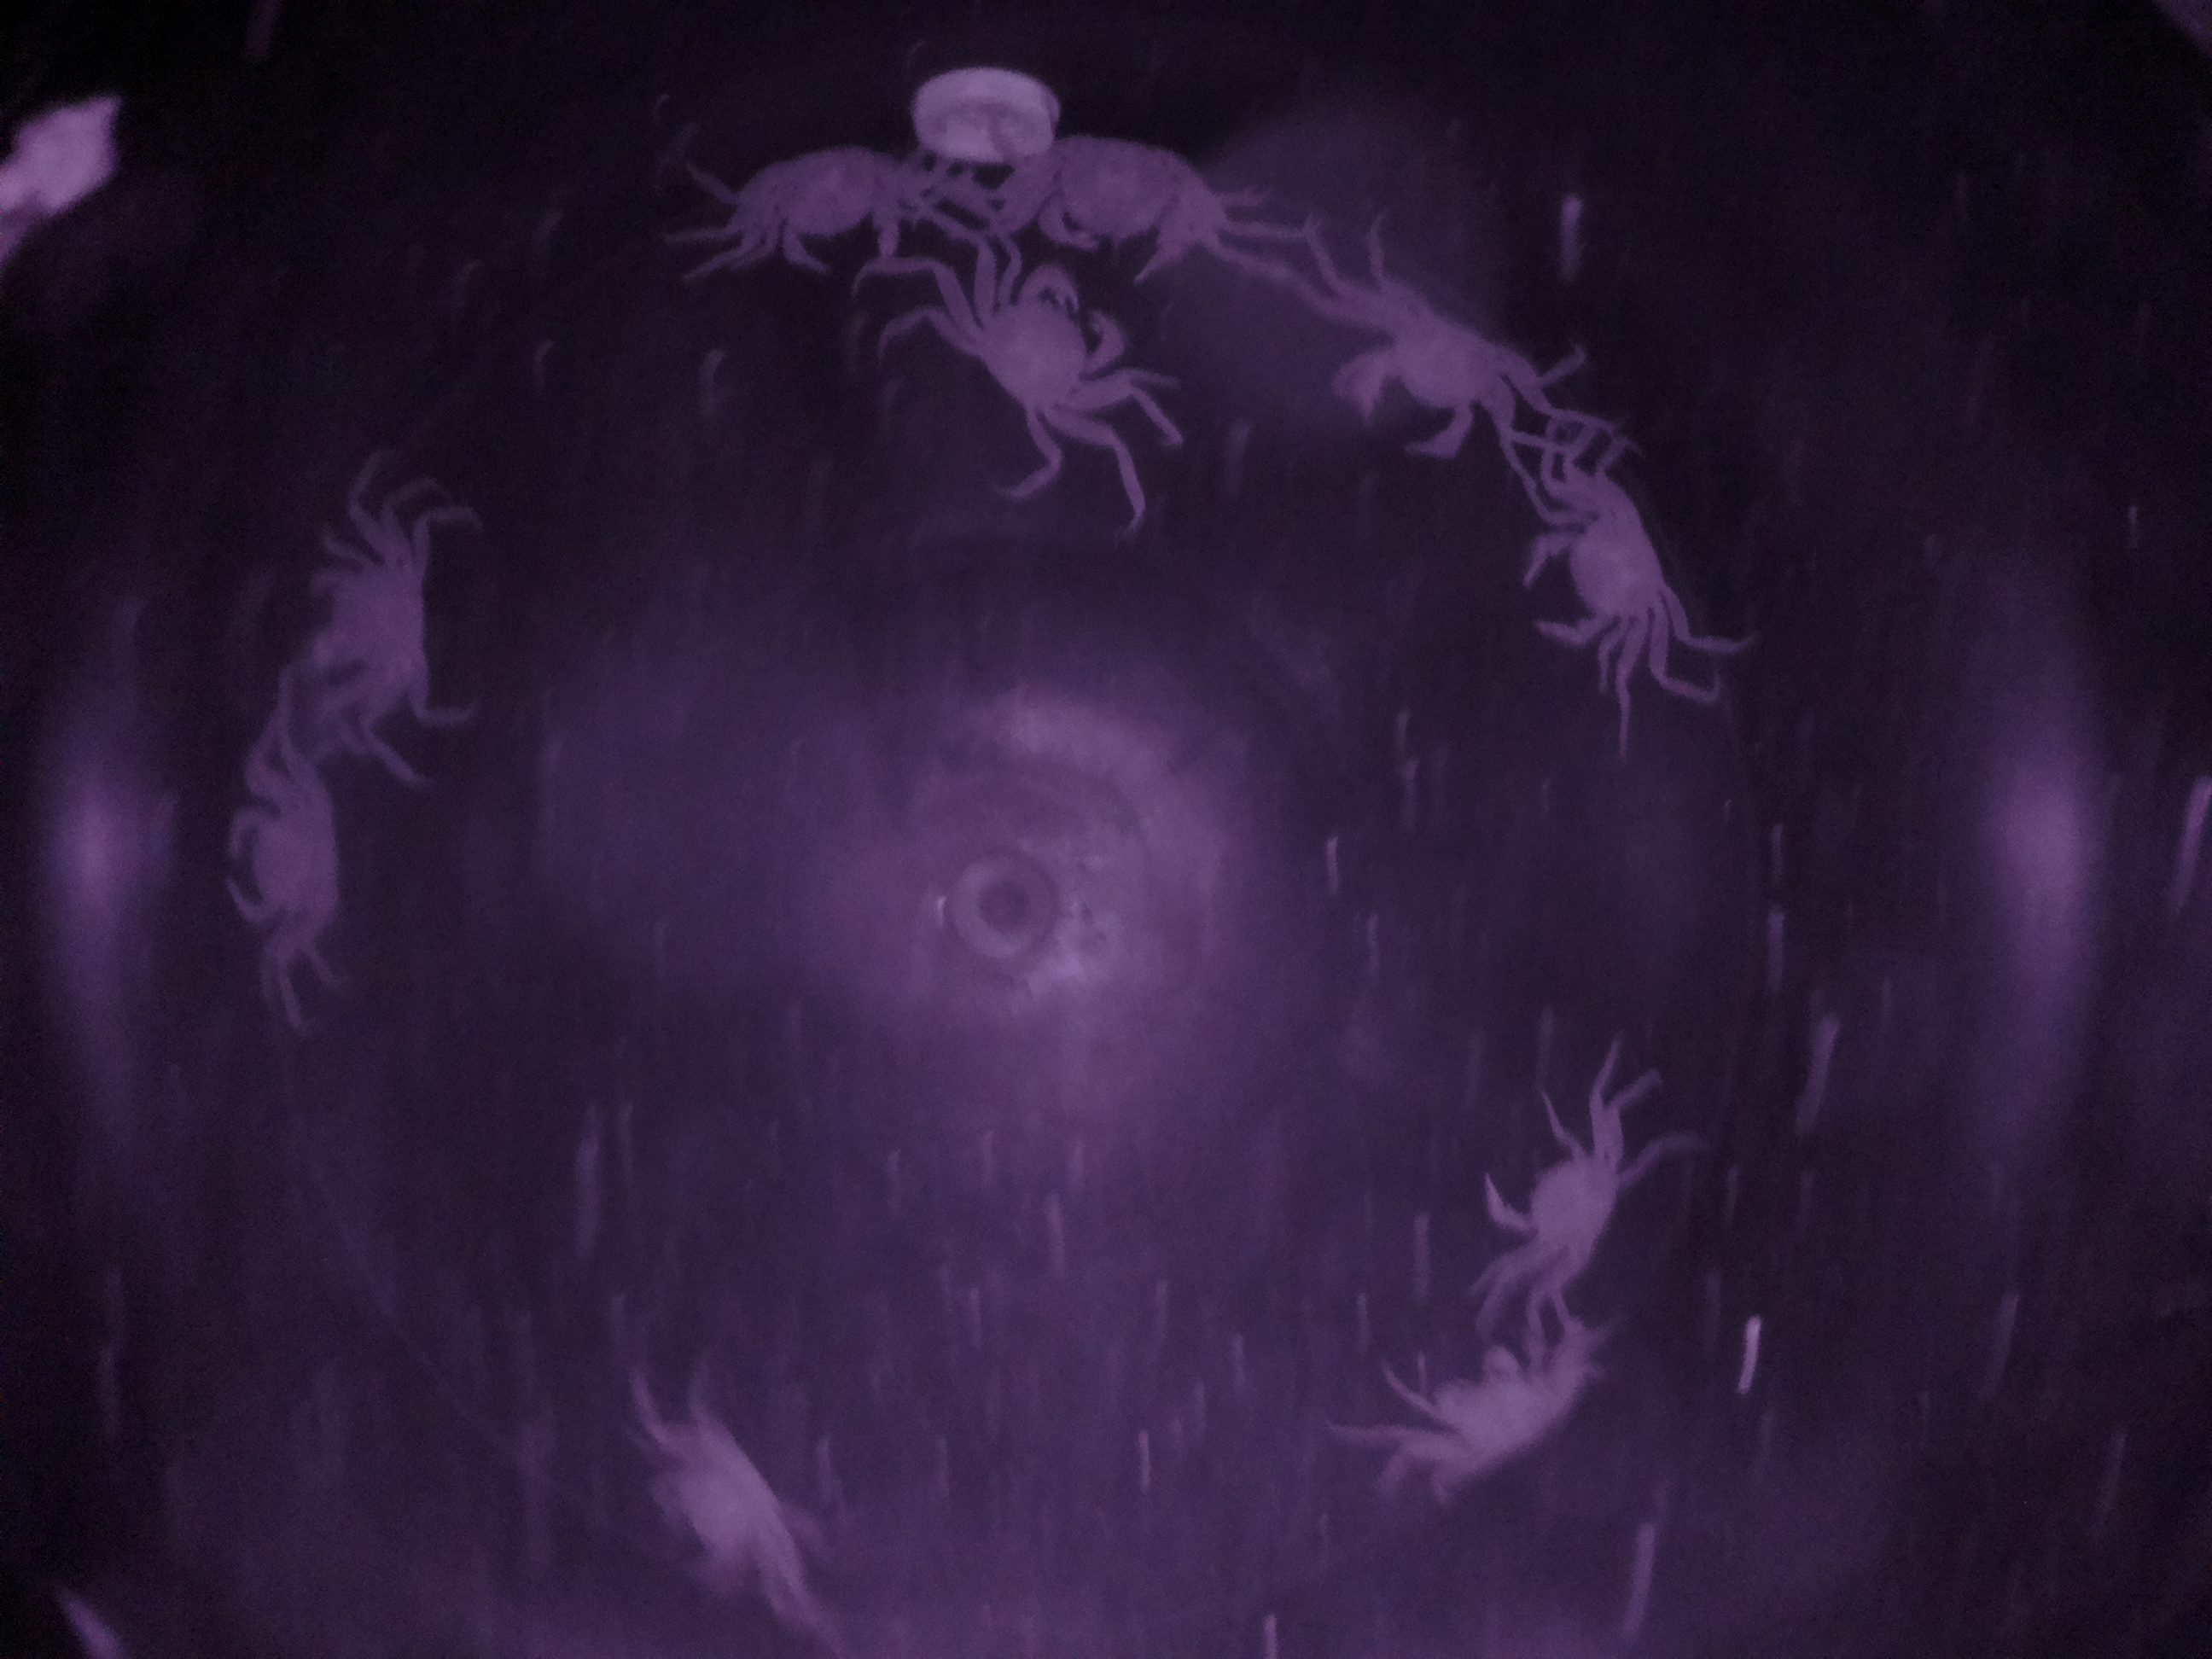Crab: (1003, 89, 1233, 286), (956, 242, 1148, 460), (1310, 288, 1524, 471), (1512, 469, 1695, 673), (711, 132, 928, 293)
